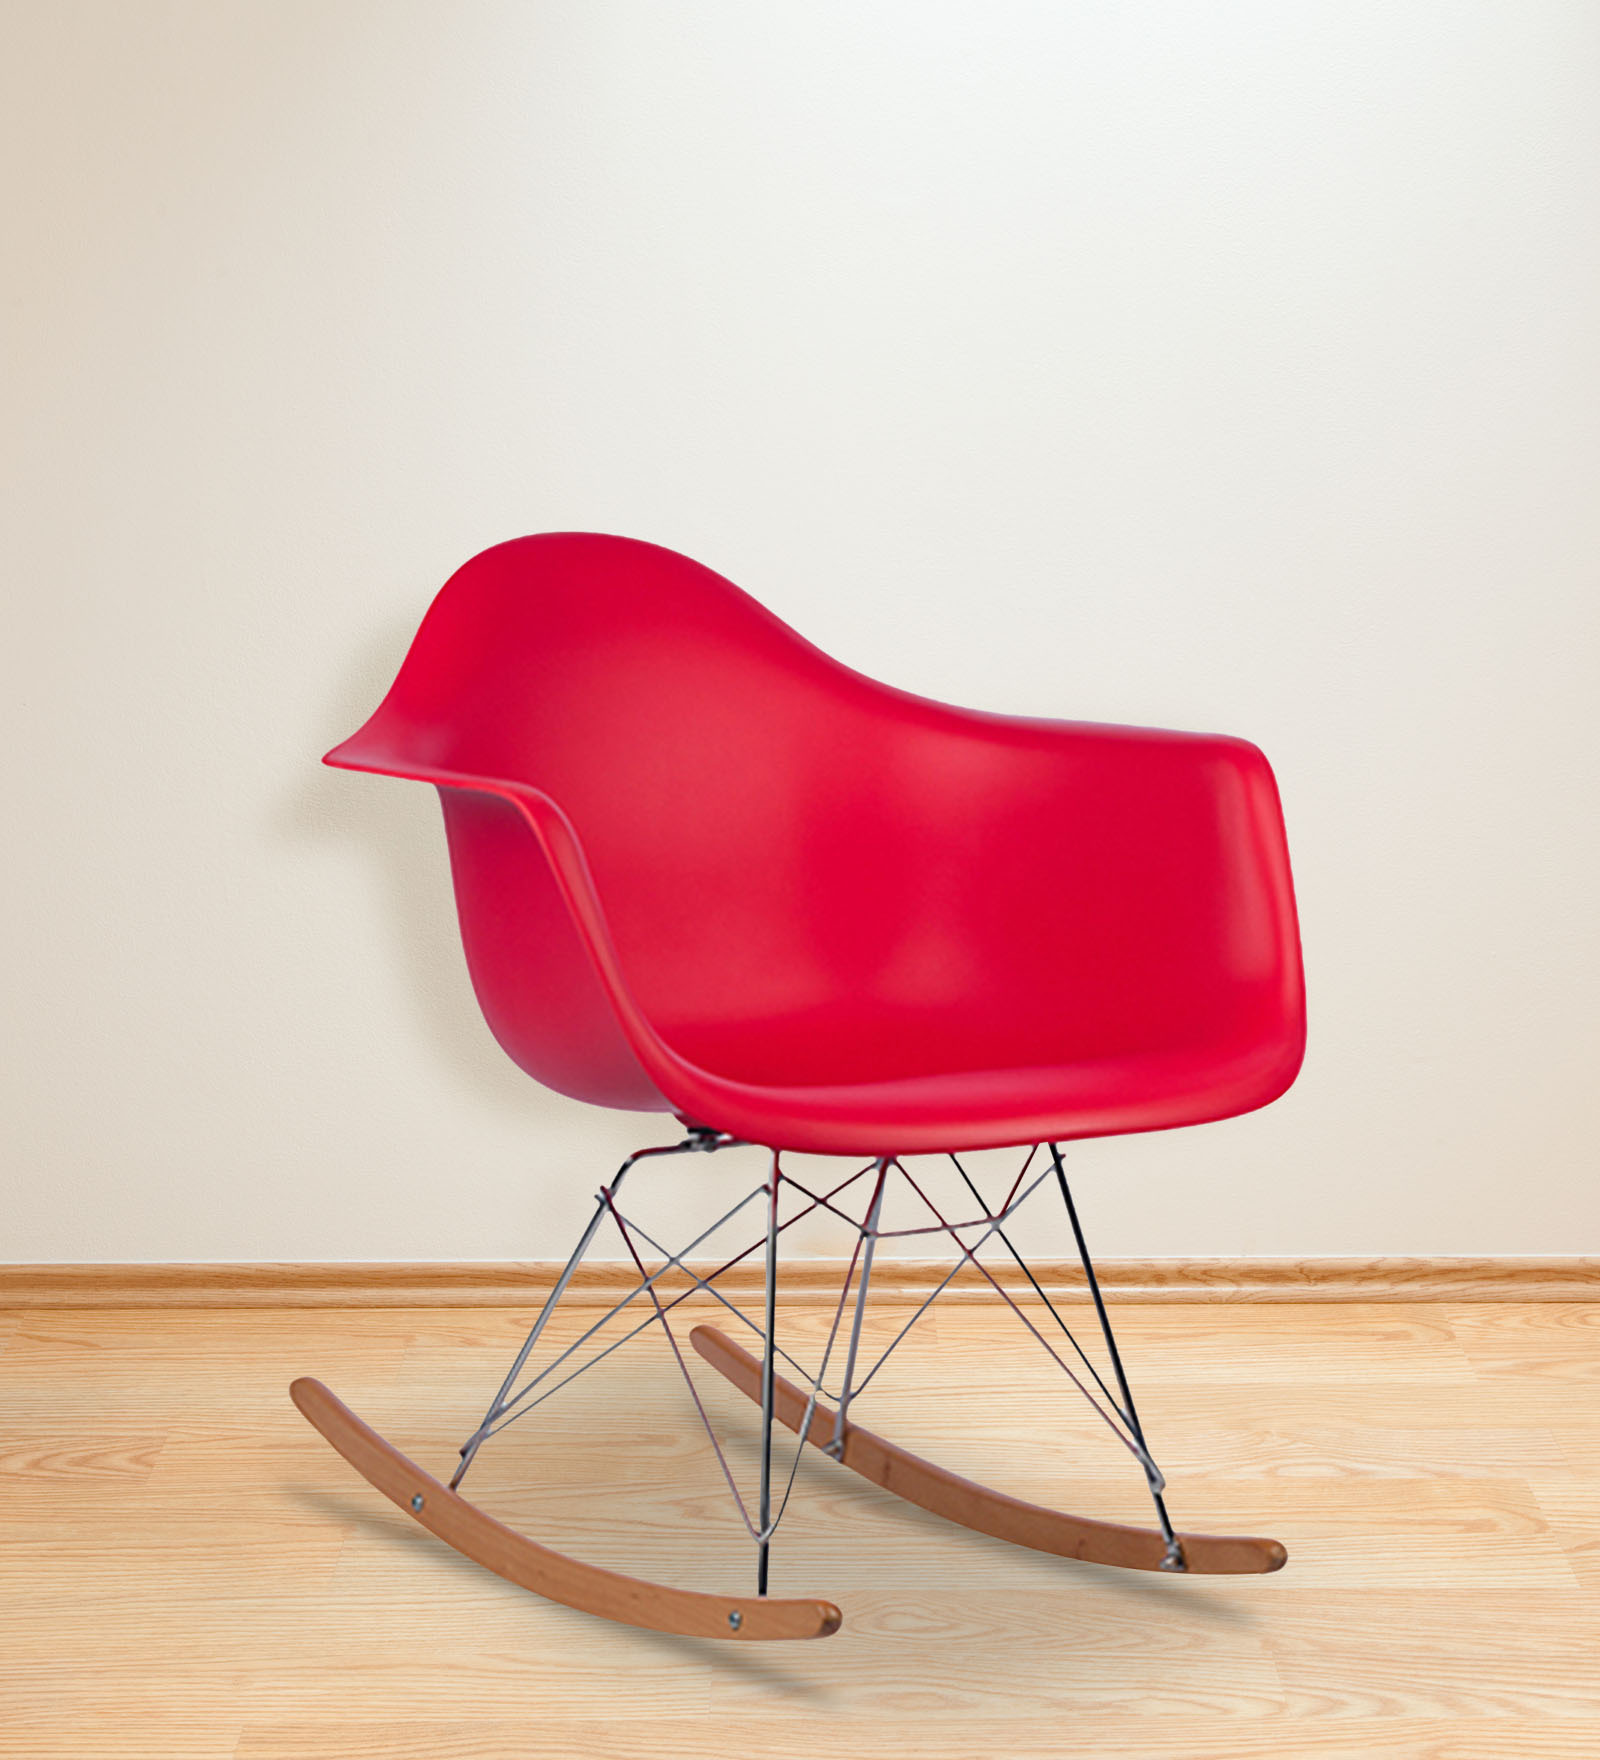Daytona Beach Club Rocking Chair in Rocking Red Colour by HomeHQ: (261, 484, 1346, 1674)
